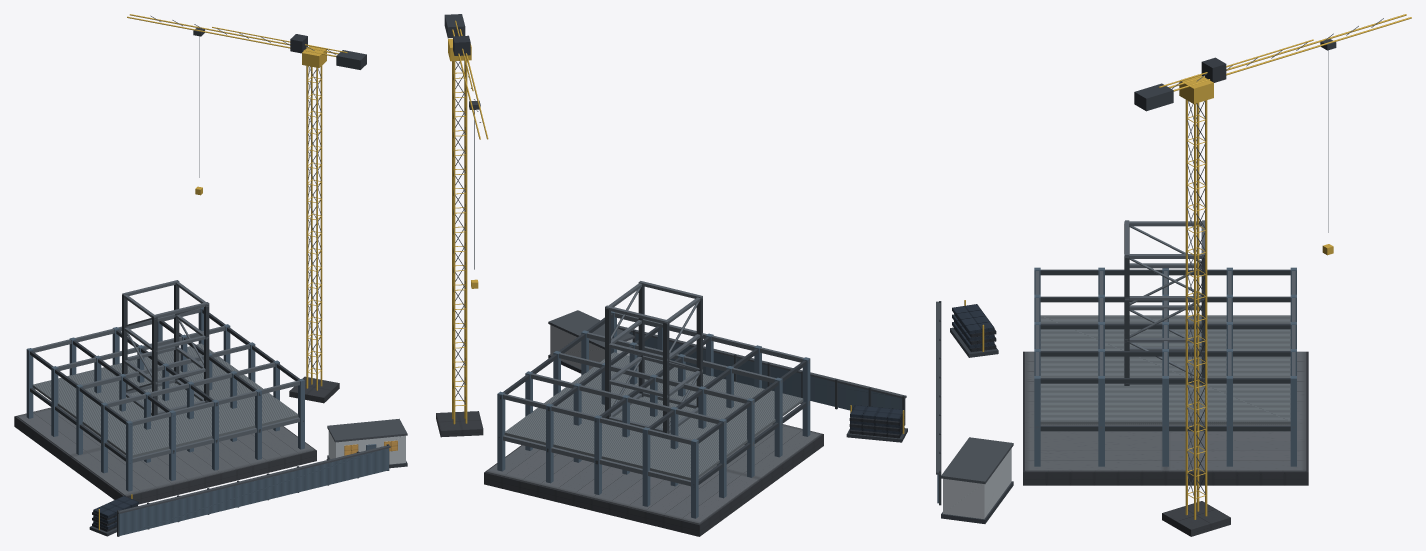
File: trg-4-construction.glb
3 views of the same model, side by side, from view 1: azimuth 30°, elevation 25°; view 2: azimuth 150°, elevation 25°; view 3: azimuth 270°, elevation 25° (orthographic). The views are drawn at different scales.
Bounding box in the file's own units: 32.98 × 32.75 × 30.81.
19 materials, 11 textured.
